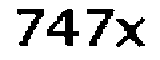4: (45, 9, 81, 48)
7: (83, 6, 116, 54), (11, 7, 45, 49)
x: (113, 16, 148, 51)
